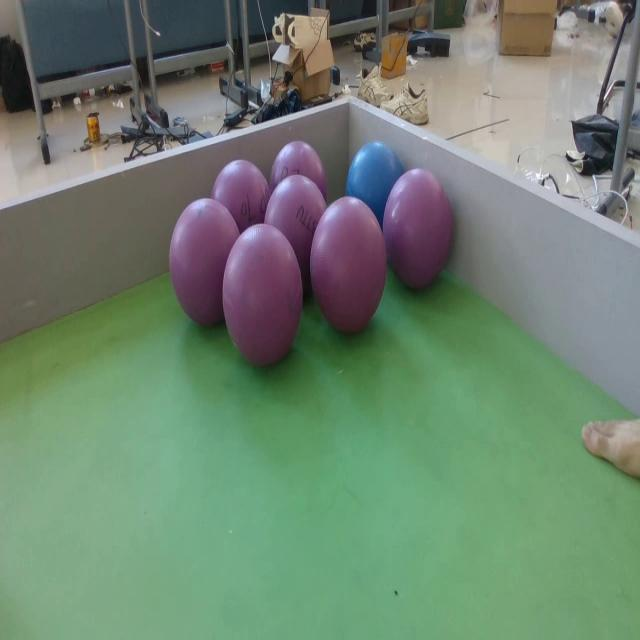blue: (347, 142, 403, 224)
invalid: (224, 224, 303, 364), (310, 198, 384, 337), (170, 198, 234, 330), (384, 164, 451, 286), (264, 180, 328, 264), (269, 136, 328, 210), (213, 159, 270, 231)
